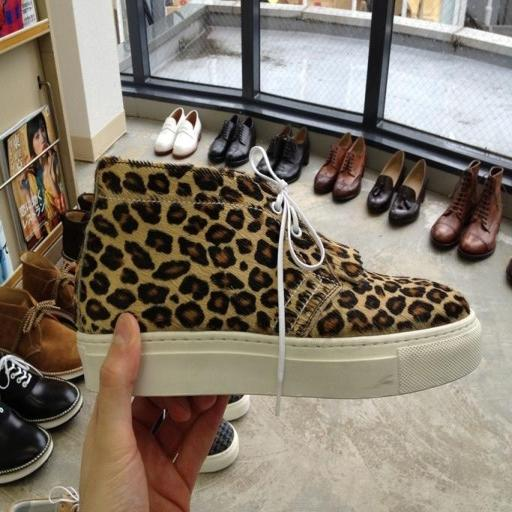shoe: (75, 147, 481, 398), (0, 287, 83, 380), (0, 355, 82, 430), (271, 132, 352, 194), (430, 160, 480, 249), (0, 402, 53, 484), (458, 166, 504, 259), (20, 251, 75, 321), (388, 159, 428, 225), (366, 150, 404, 214), (332, 136, 367, 201), (271, 127, 310, 184), (200, 419, 239, 473), (9, 486, 79, 512), (256, 125, 293, 174), (208, 114, 240, 164), (225, 117, 256, 167), (154, 107, 185, 155), (62, 209, 90, 261), (172, 110, 202, 158), (224, 394, 250, 421), (77, 192, 94, 212), (505, 258, 512, 284)
